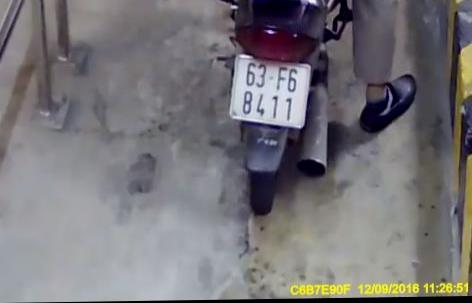License_Plate: (227, 50, 322, 136)
